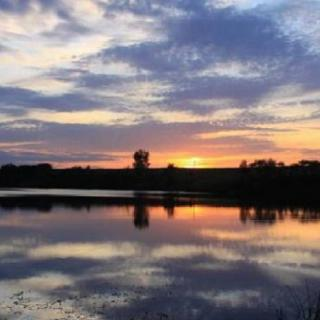Cirrostratus: (0, 0, 320, 155)
